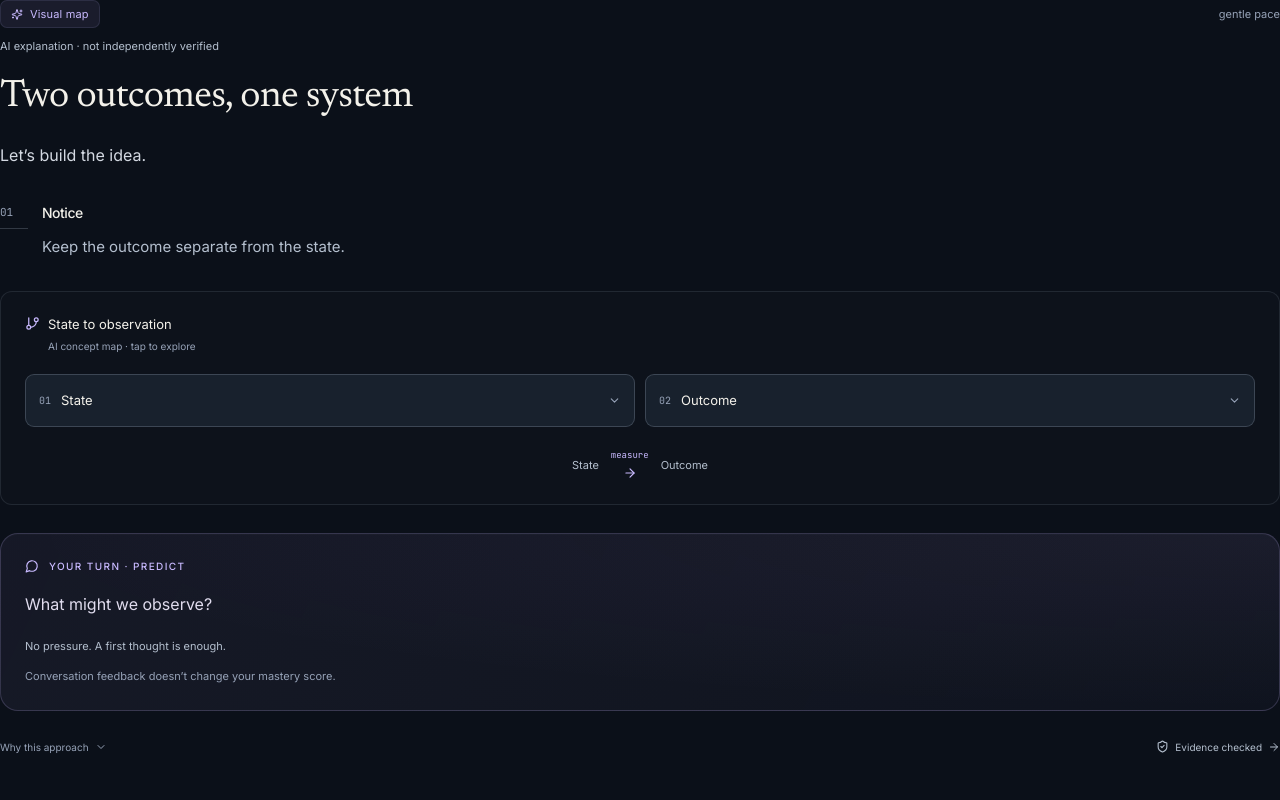
Scenario: adaptive teacher › separates AI explanation from verified evidence without a green coaching badge
Expected: the text "AI explanation · not independently verified" is shown, [0,39,219,53]
Expected: the text "GROUNDED" is not shown
Click the button with aria-label "Inspect checked evidence".
click(1218, 747)  # box [1156,731,1279,763]
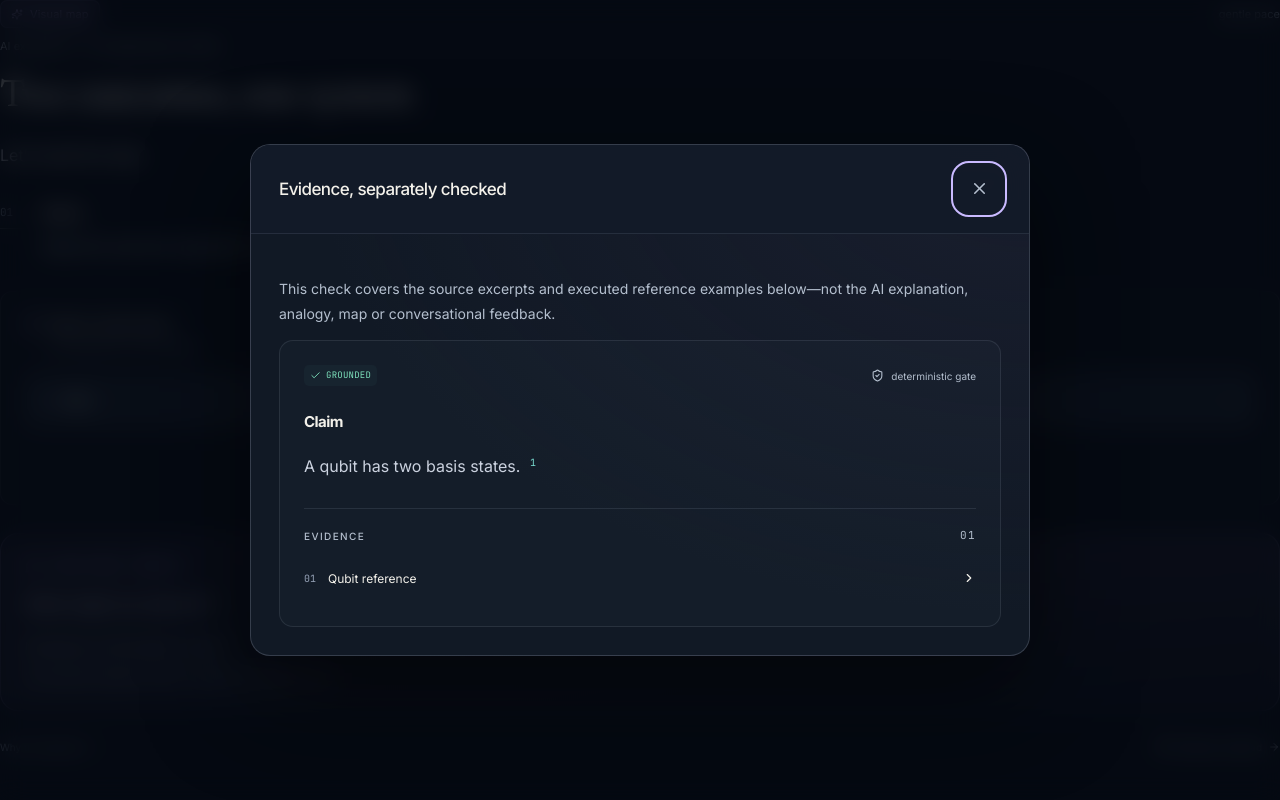
Now the dialog "Evidence, separately checked" is shown, box [250,144,1030,656]
Now the text "GROUNDED" is shown, box [326,369,371,382]
